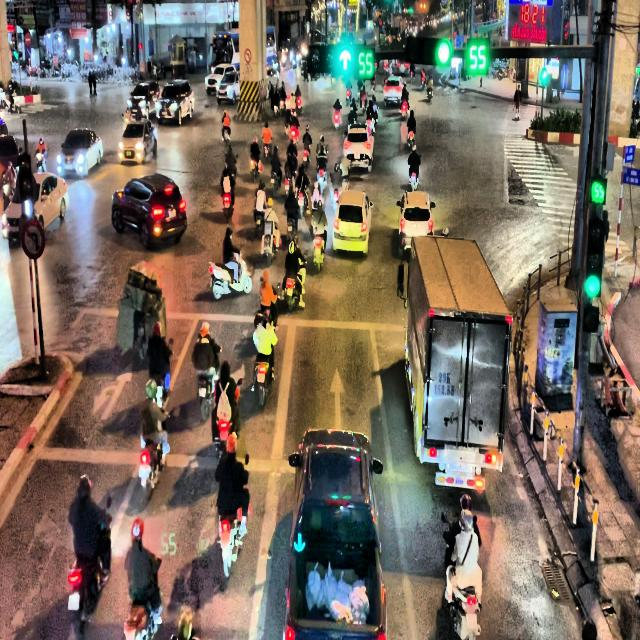lisence_plate: (434, 470, 486, 491), (432, 372, 456, 398), (166, 208, 176, 218), (346, 223, 353, 236), (355, 152, 360, 160)
